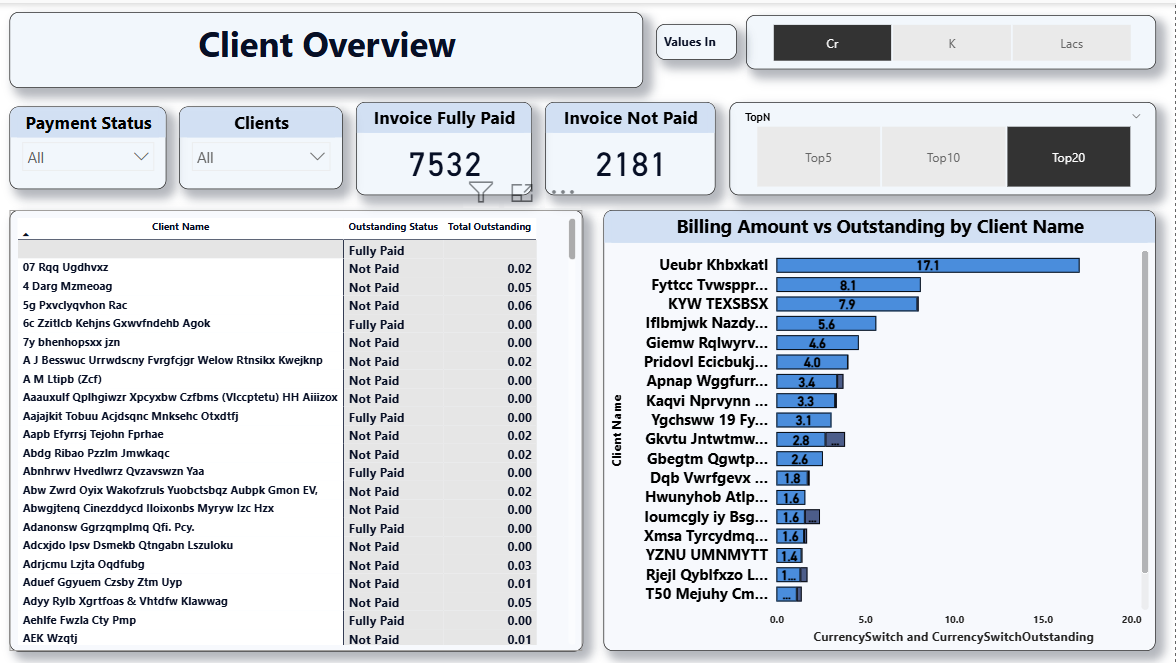

This screenshot's page, from the dashboard's own definition file:
{"tool":"powerbi","page":{"name":"Status","canvas":[1280,720],"ordinal":2},"visuals":[{"type":"slicer","title":"Payment Status","fields":{"Values":["Outstanding Table.PaidStatusColumn"]},"box":[20.5,112.5,169.5,89.1],"z":0},{"type":"textbox","box":[20.5,10.2,684,81.8],"z":1000},{"type":"pivotTable","fields":{"Rows":["Outstanding Table.Client Name"],"Values":["Outstanding Table.Paid","Currency_Conversion.CurrencySwitchOutstanding"]},"box":[20.5,223.6,619.7,476.4],"z":2000},{"type":"card","title":"Invoice Fully Paid","fields":{"Values":["Outstanding Table.CountPaidClient"]},"box":[395.3,106.7,190,100.8],"z":3000},{"type":"card","title":"Invoice Not Paid","fields":{"Values":["CountNonNull(Outstanding Table.CountNotPaid)"]},"box":[599.6,106.7,184.1,100.8],"z":4000},{"type":"barChart","title":"Billing Amount vs Outstanding by Client Name","fields":{"Category":["Invoices Table.Client Name"],"Y":["Currency_Conversion.CurrencySwitch","Currency_Conversion.CurrencySwitchOutstanding"]},"box":[662,224,596,476],"z":5000},{"type":"slicer","fields":{"Values":["TopN.TopN"]},"box":[798,106.7,460.4,100.8],"z":6000},{"type":"slicer","title":"Clients","fields":{"Values":["Outstanding Table.Client Name"]},"box":[204.2,112.5,176.8,89.1],"z":7000},{"type":"slicer","fields":{"Values":["Currency_Conversion.Currency"]},"box":[815.5,13.2,442.8,58.5],"z":8000},{"type":"textbox","box":[719.1,22.6,87.6,38.5],"z":9000}]}

Visuals, with their boxes in screenshot pixels (x1, y1, x2, y2), scaled from the page's 1280x720 canvas onto the 1176x663 screenshot:
"Payment Status" slicer: {"x1": 19, "y1": 104, "x2": 175, "y2": 186}
textbox: {"x1": 19, "y1": 9, "x2": 647, "y2": 85}
pivotTable - Outstanding Table.Client Name x Outstanding Table.Paid: {"x1": 19, "y1": 206, "x2": 588, "y2": 645}
"Invoice Fully Paid" card: {"x1": 363, "y1": 98, "x2": 538, "y2": 191}
"Invoice Not Paid" card: {"x1": 551, "y1": 98, "x2": 720, "y2": 191}
"Billing Amount vs Outstanding by Client Name" barChart: {"x1": 608, "y1": 206, "x2": 1156, "y2": 645}
slicer - TopN.TopN: {"x1": 733, "y1": 98, "x2": 1156, "y2": 191}
"Clients" slicer: {"x1": 188, "y1": 104, "x2": 350, "y2": 186}
slicer - Currency_Conversion.Currency: {"x1": 749, "y1": 12, "x2": 1156, "y2": 66}
textbox: {"x1": 661, "y1": 21, "x2": 741, "y2": 56}
